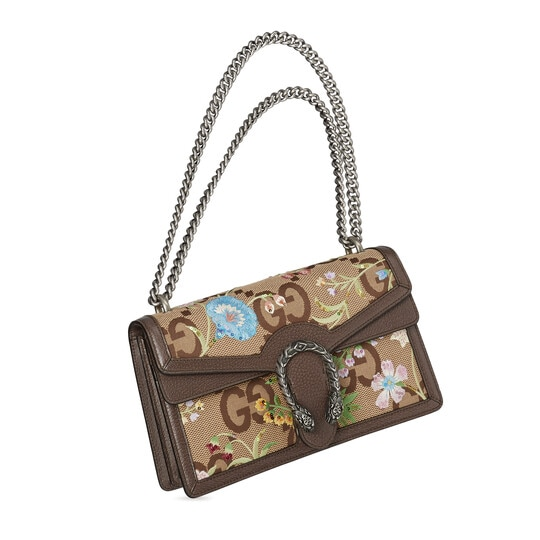Gucci: (123, 248, 455, 502), (271, 336, 345, 434), (241, 283, 319, 334), (225, 369, 286, 433)
